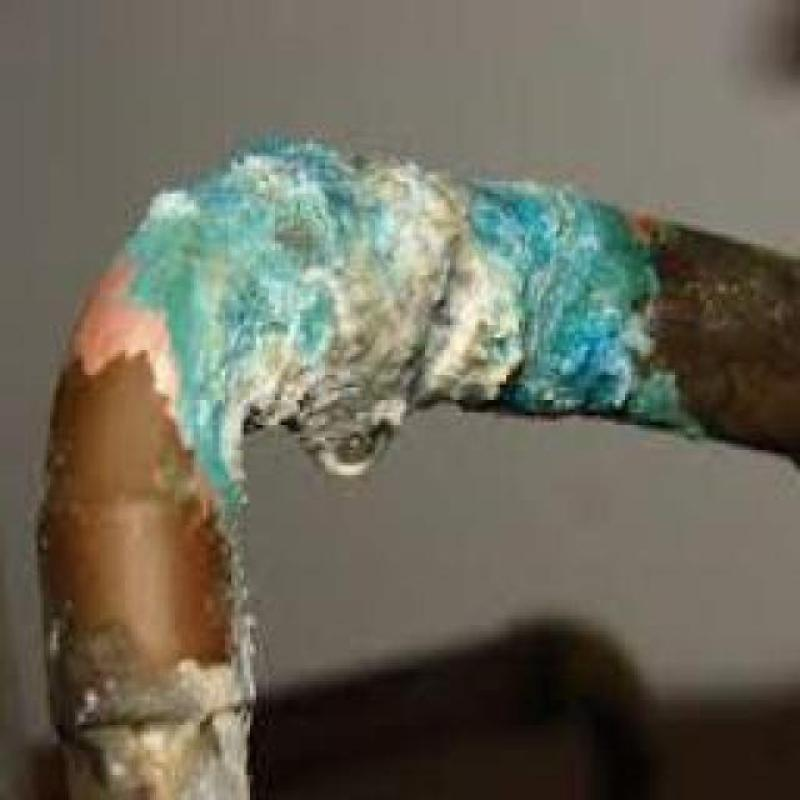corrosion: (157, 175, 677, 429)
